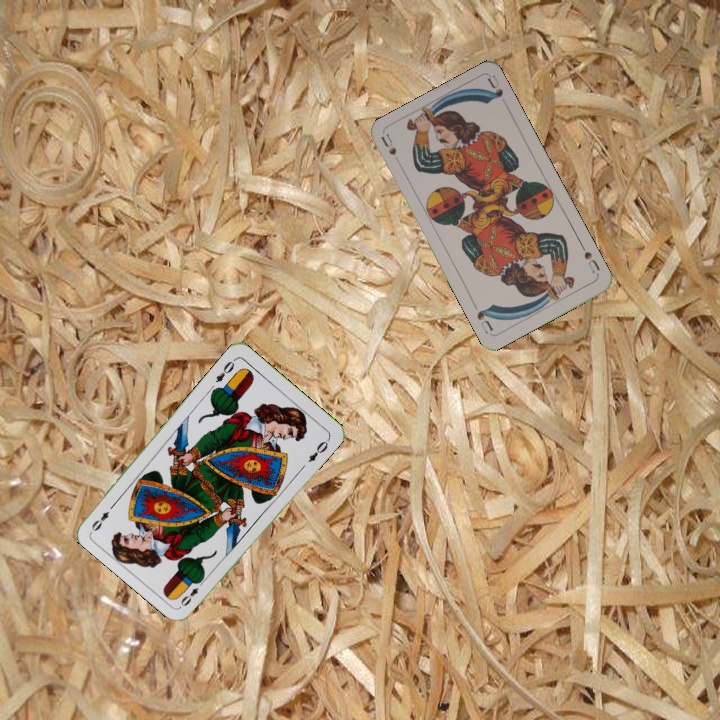EO: (176, 575, 208, 609), (212, 354, 238, 385)
SU: (576, 240, 602, 278), (377, 130, 399, 158)
